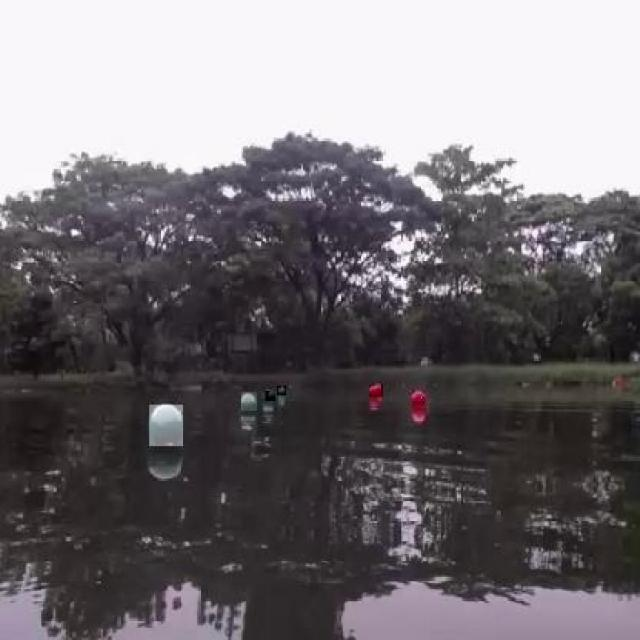green_ball: (150, 404, 182, 448), (240, 394, 258, 411), (261, 390, 276, 402), (277, 383, 287, 398), (288, 383, 294, 390)
red_ball: (410, 388, 428, 410), (369, 380, 382, 400)
